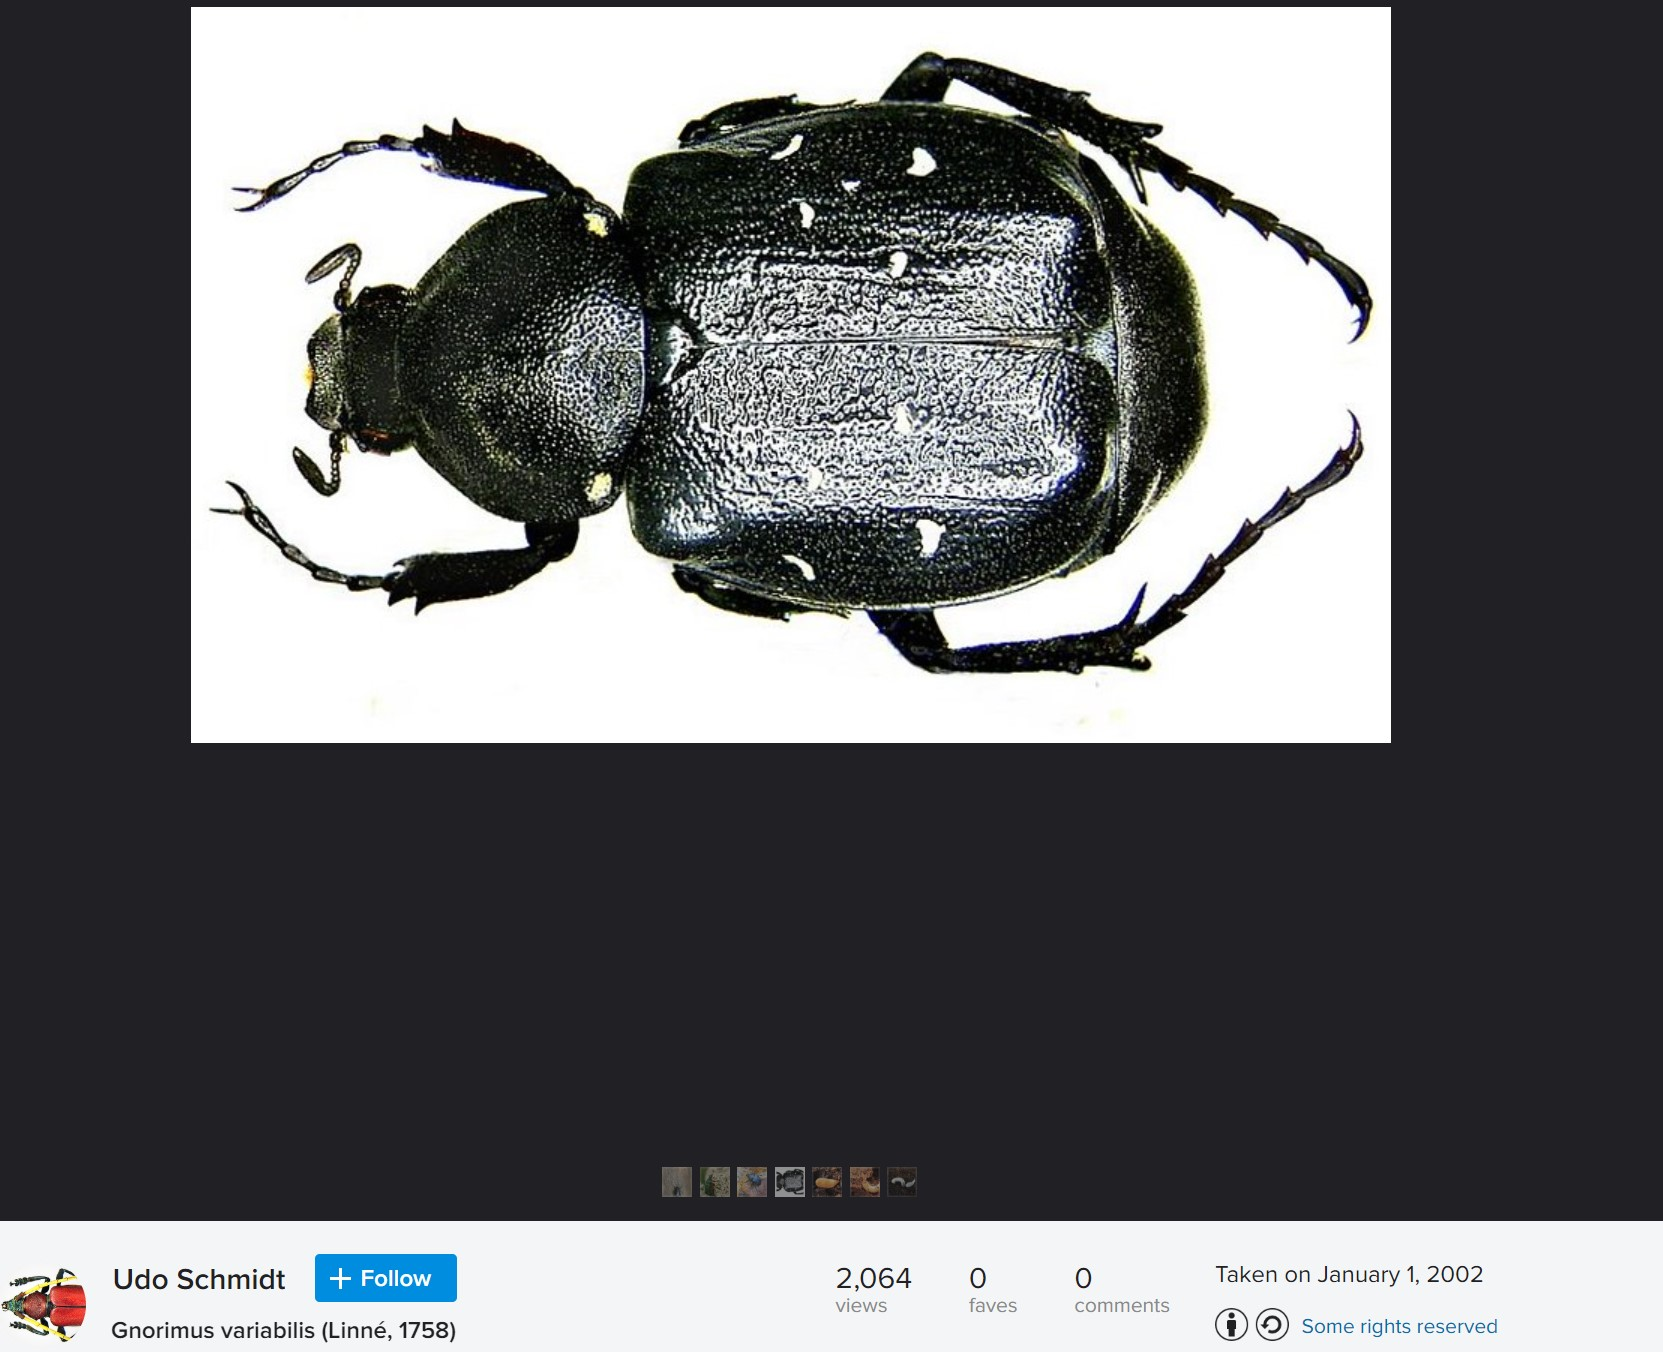Gnorimus_variabilis: (205, 25, 1379, 705)
